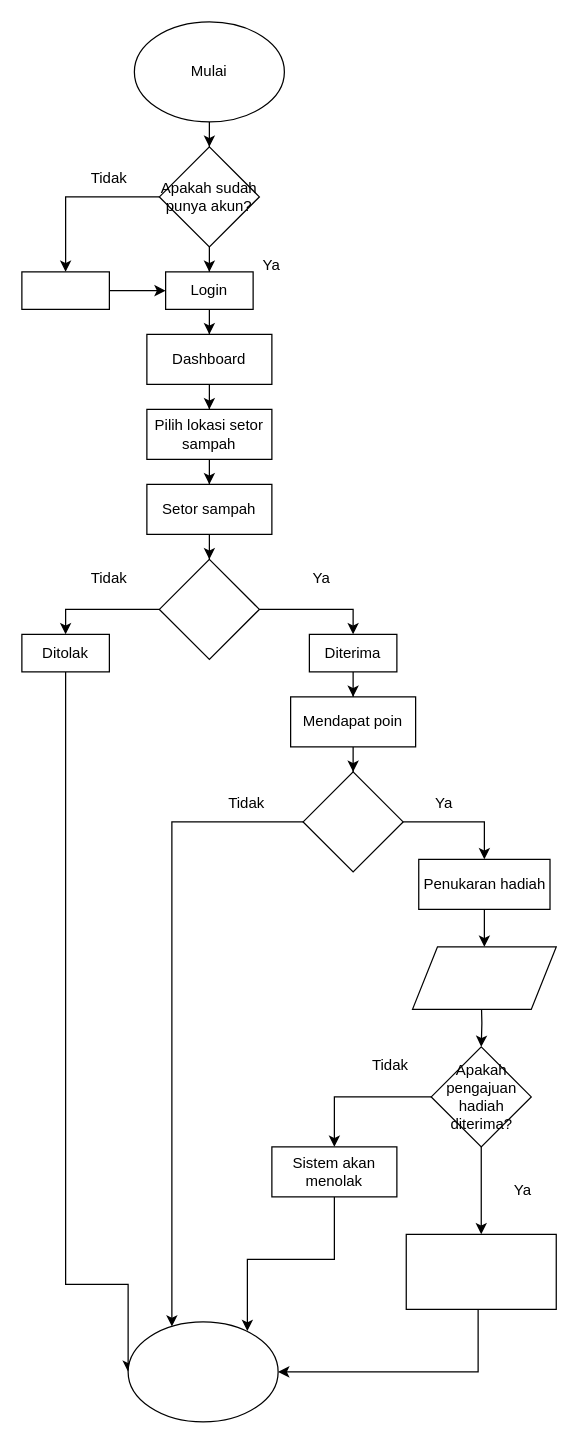
Some shapes in this 583 by 1444 pixel diagram are drawn without their labels. The shapes that lost their labels are listed below. From the top down, each one's centre as x and y in pixels, then its label:
At point (65, 290): "Register".
At point (208, 608): "Apakah setoran diterima admin?".
At point (352, 821): "Apakah ingin menukar hadiah?".
At point (483, 977): "Mengisi data penukaran hadiah".
At point (480, 1271): "User mengambil di lokasi terdekat".
At point (202, 1371): "Selesai".
